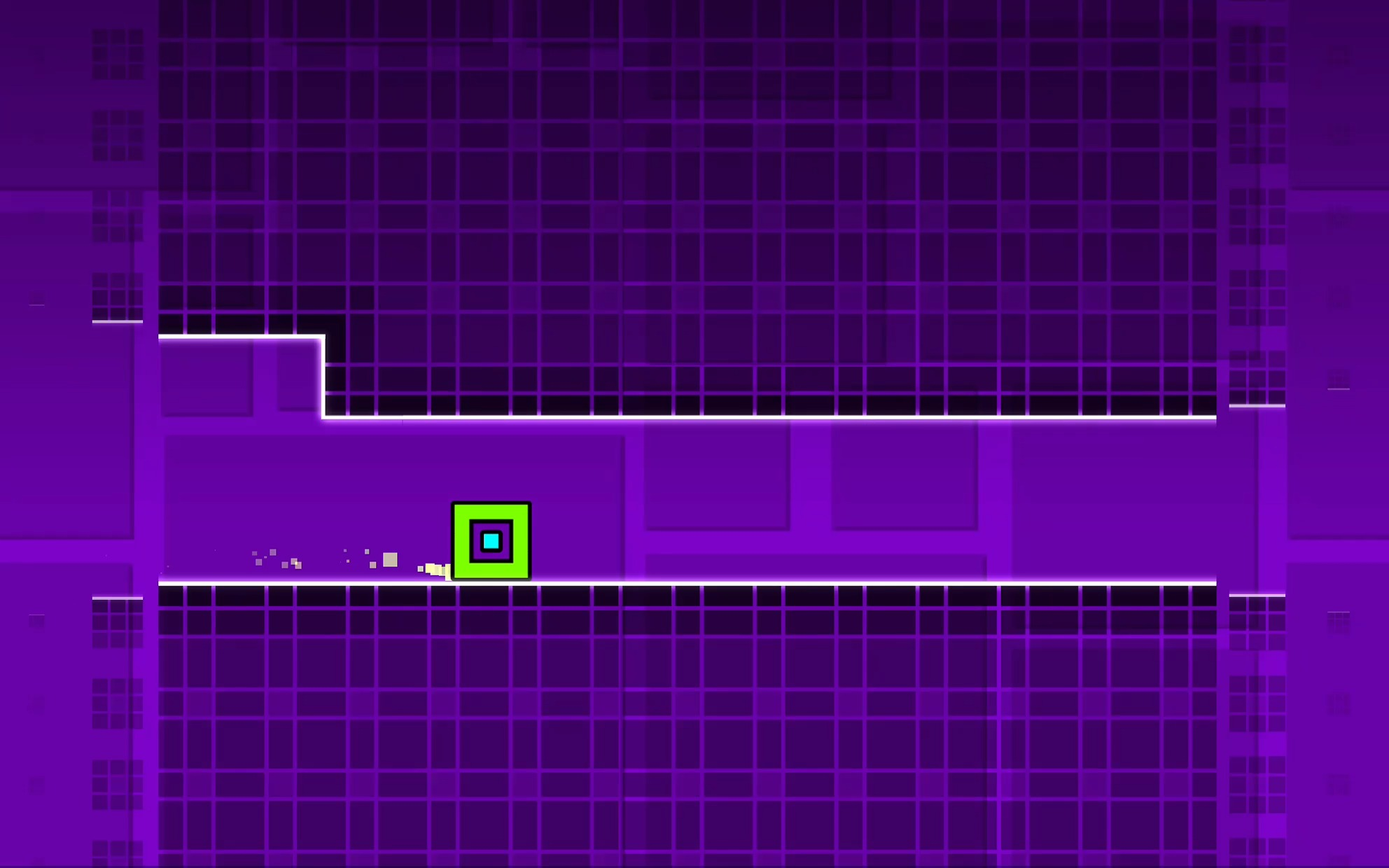Block2: (326, 0, 1304, 419), (98, 0, 1272, 342), (159, 574, 1304, 848)
Player: (450, 502, 531, 579)
